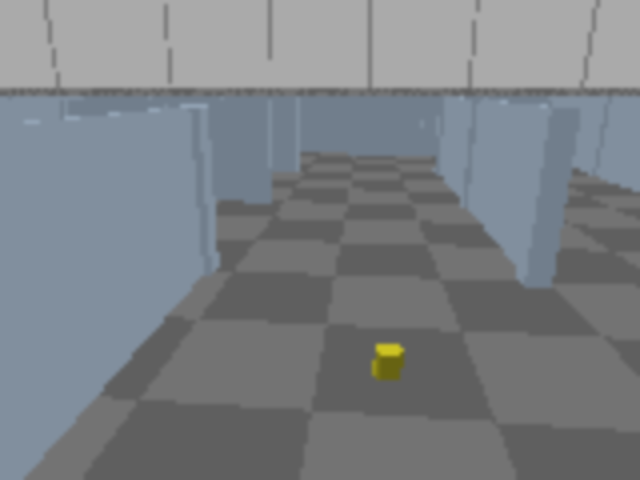puck: (375, 343, 402, 381)
